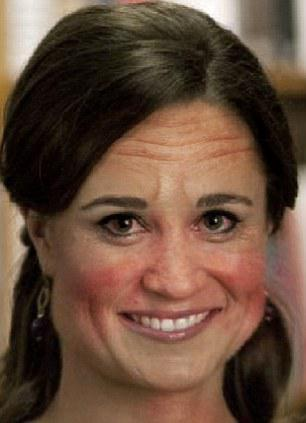Drunk: (57, 102, 264, 385)
